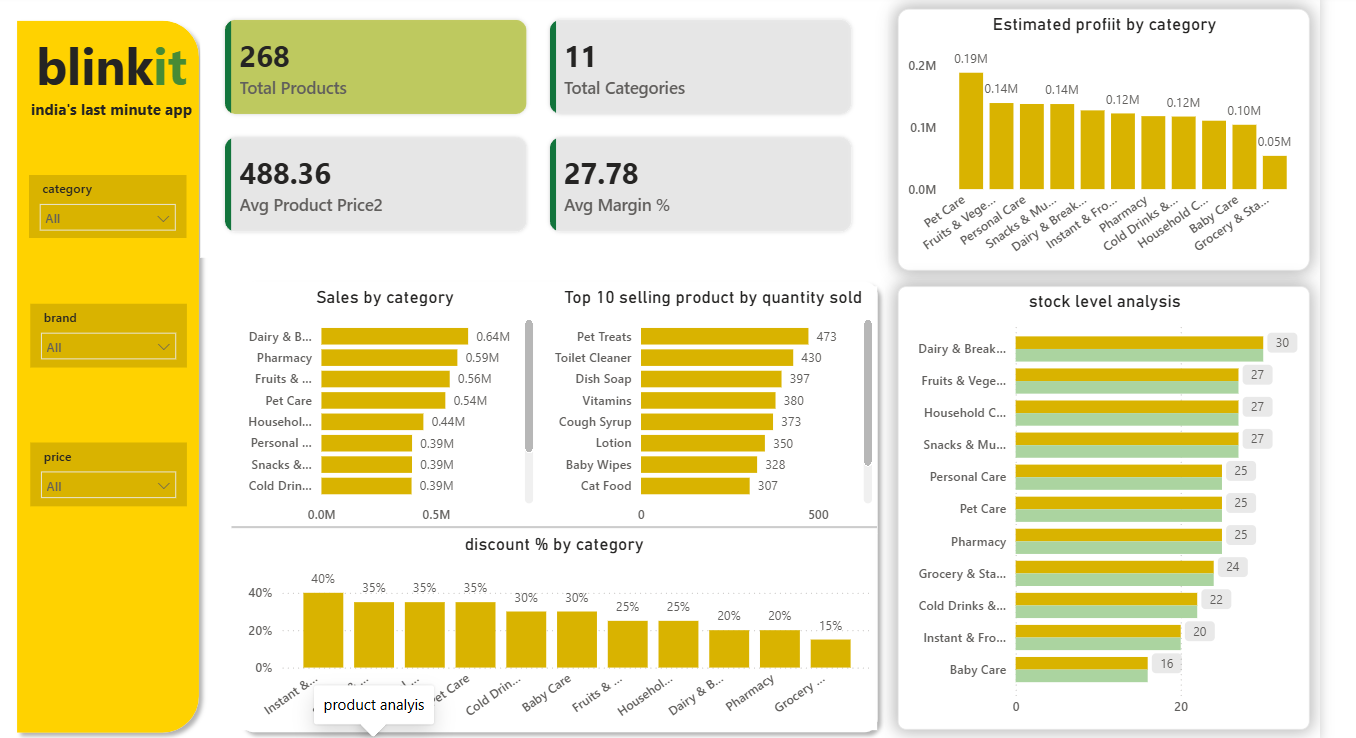

What the dashboard file says about the page in this screenshot:
{"tool":"powerbi","page":{"name":"product analyis","canvas":[1280,720],"ordinal":2},"visuals":[{"type":"shape","box":[13.7,15.1,193.5,705.3],"z":0},{"type":"textbox","box":[258,14,194,706],"z":1000},{"type":"cardVisual","fields":{"Data":["DAX.Total Products","DAX.Total Categories","DAX.Avg Product Price2","DAX.Avg Margin %"]},"box":[199.1,0,653.9,253.4],"z":2000},{"type":"shape","box":[229.2,267.6,632.6,452.8],"z":3000},{"type":"clusteredBarChart","title":" Sales by category","fields":{"Category":["public products.category"],"Y":["DAX.Category Sales"]},"box":[229.2,281.3,296.4,238.8],"z":4000},{"type":"clusteredBarChart","title":"Top 10 selling product by quantity sold","fields":{"Category":["public products.product_name"],"Y":["DAX.Items Sold"]},"box":[535.2,281.3,317,238.8],"z":5000},{"type":"clusteredColumnChart","title":"discount % by category","fields":{"Category":["public products.category"],"Y":["DAX.Discount %"]},"box":[229.2,520.1,623,189.4],"z":6000},{"type":"clusteredColumnChart","title":"Estimated profiit by category","fields":{"Category":["public products.category"],"Y":["DAX.Profit2"]},"box":[872.7,13.7,397.9,252.5],"z":7000},{"type":"shape","box":[229.2,506.3,623,13.7],"z":8000},{"type":"clusteredBarChart","title":"stock level analysis","fields":{"Category":["public products.category"],"Y":["CountNonNull(public products.max_stock_level)","CountNonNull(public products.min_stock_level)"]},"box":[872.7,281.3,397.9,428.1],"z":9000},{"type":"textbox","box":[27.7,30.2,171.3,77.2],"z":10000},{"type":"textbox","box":[27.7,95.3,171.3,44.6],"z":11000},{"type":"slicer","fields":{"Values":["public products.category"]},"box":[34.2,173.6,151.6,61.1],"z":12000},{"type":"slicer","fields":{"Values":["public products.brand"]},"box":[35,298,150.8,61.5],"z":13000},{"type":"slicer","fields":{"Values":["public products.price"]},"box":[35,431.9,150.8,61.5],"z":14000}]}

Visuals, with their boxes on the page's 1280x720 design canvas (x1, y1, x2, y2). These are canvas units, not pixel positions in the 1356x738 screenshot, which may show the page scaled, cropped or inside an application window:
shape: bbox=(14, 15, 207, 720)
textbox: bbox=(258, 14, 452, 720)
cardVisual - DAX.Total Products x DAX.Total Categories: bbox=(199, 0, 853, 253)
shape: bbox=(229, 268, 862, 720)
" Sales by category" clusteredBarChart: bbox=(229, 281, 526, 520)
"Top 10 selling product by quantity sold" clusteredBarChart: bbox=(535, 281, 852, 520)
"discount % by category" clusteredColumnChart: bbox=(229, 520, 852, 710)
"Estimated profiit by category" clusteredColumnChart: bbox=(873, 14, 1271, 266)
shape: bbox=(229, 506, 852, 520)
"stock level analysis" clusteredBarChart: bbox=(873, 281, 1271, 709)
textbox: bbox=(28, 30, 199, 107)
textbox: bbox=(28, 95, 199, 140)
slicer - public products.category: bbox=(34, 174, 186, 235)
slicer - public products.brand: bbox=(35, 298, 186, 360)
slicer - public products.price: bbox=(35, 432, 186, 493)
